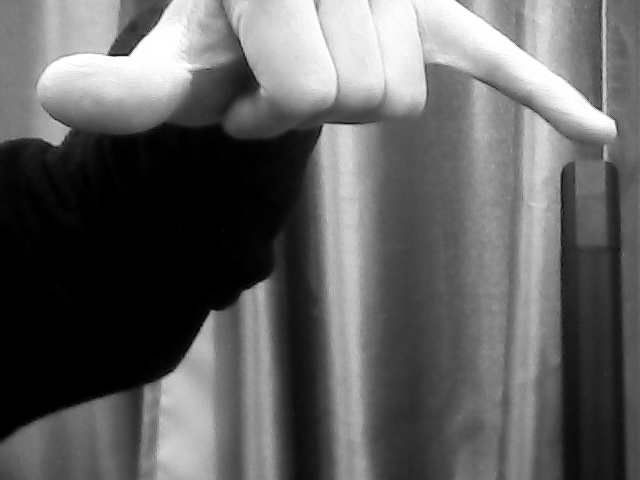aloha: (34, 1, 622, 148)
